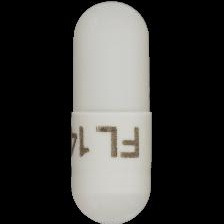0456-1201: (0, 0, 224, 224)
